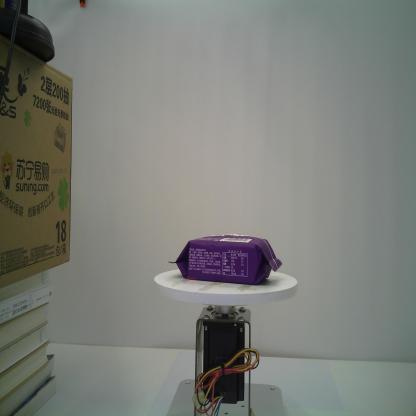Dessert: (167, 234, 283, 286)
